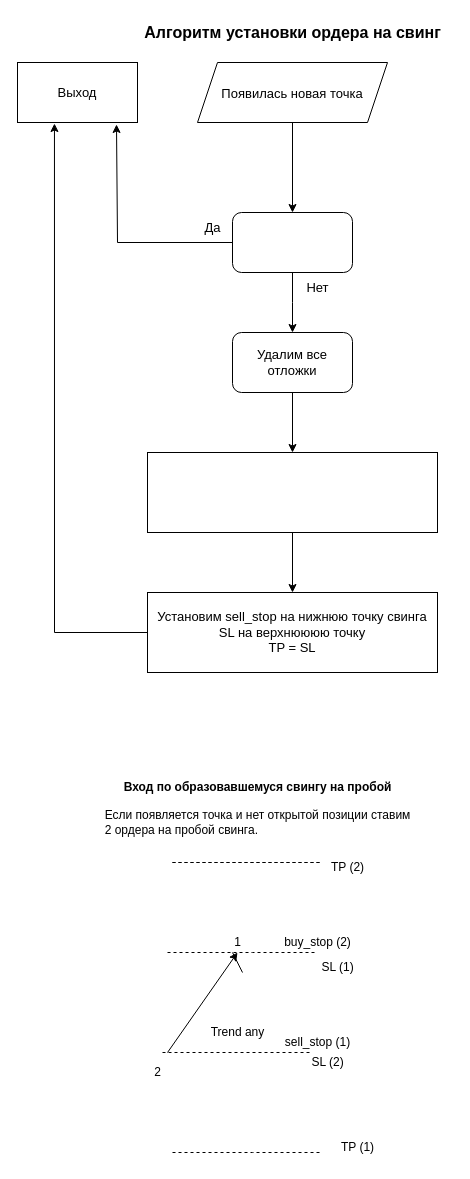
Some shapes in this 470 by 1179 pixel diagram are drawn without their labels. The centre of each missing label's shape, as x and y in pixels:
"Есть открытая позиция" goes at pixel 292 242.
"Установим buy_stop на верхнюю точку свинга SL на нижнюю точку TP = SL" goes at pixel 292 492.
